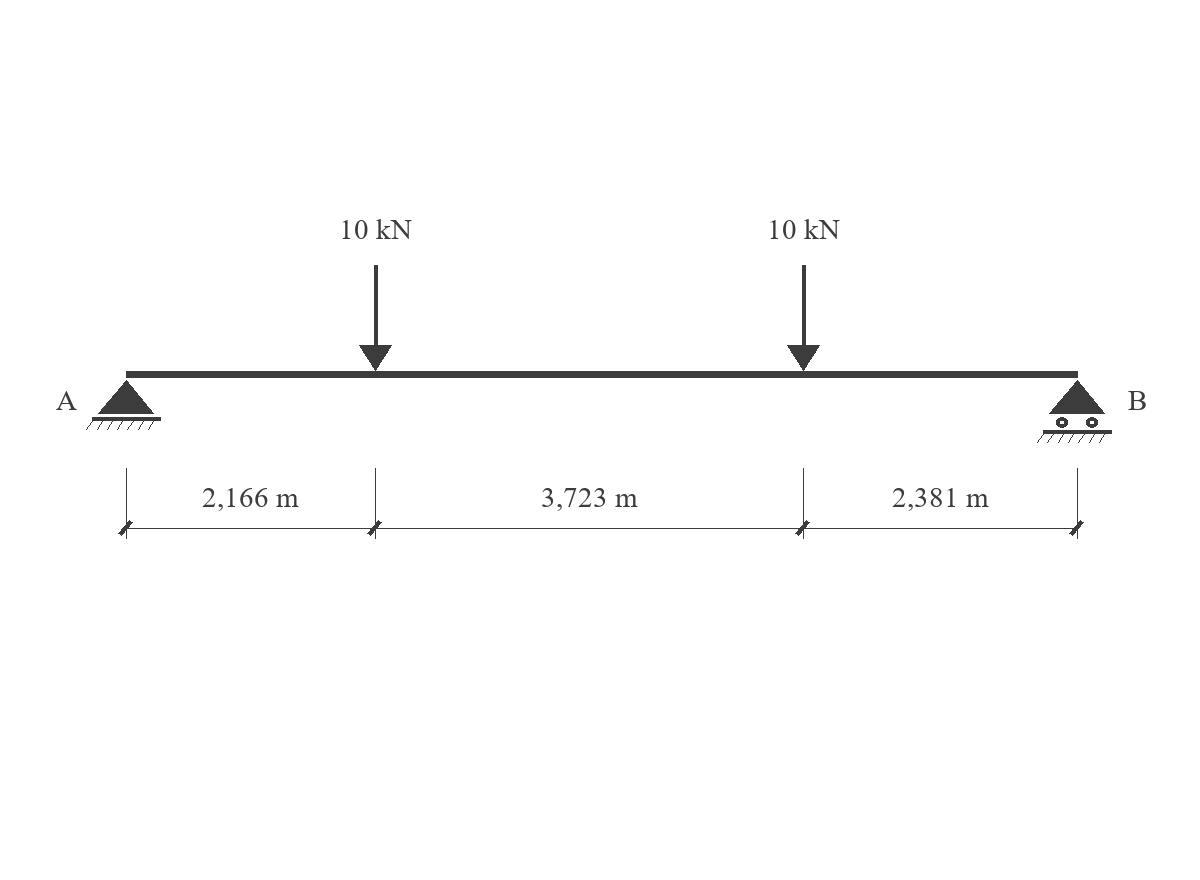pin_support: (86, 380, 161, 430)
point_load: (359, 265, 392, 371), (787, 265, 820, 371)
roller_support: (1037, 380, 1112, 443)
